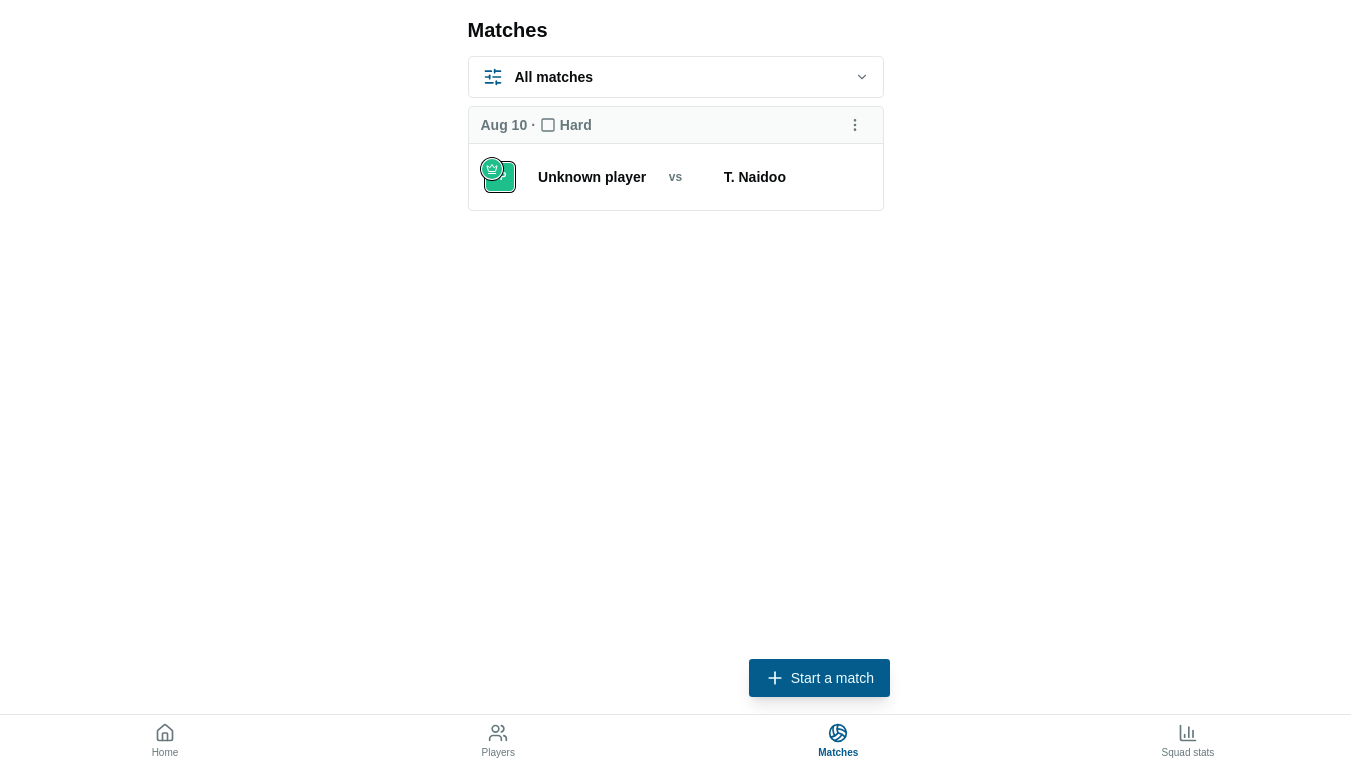
Test: the edit menu item is still offered once the match has a result
Expected: the text "T. Naidoo" is shown, [724,167,786,187]
Click the button named "Actions for the match".
click(854, 125)  # box [838,109,870,141]
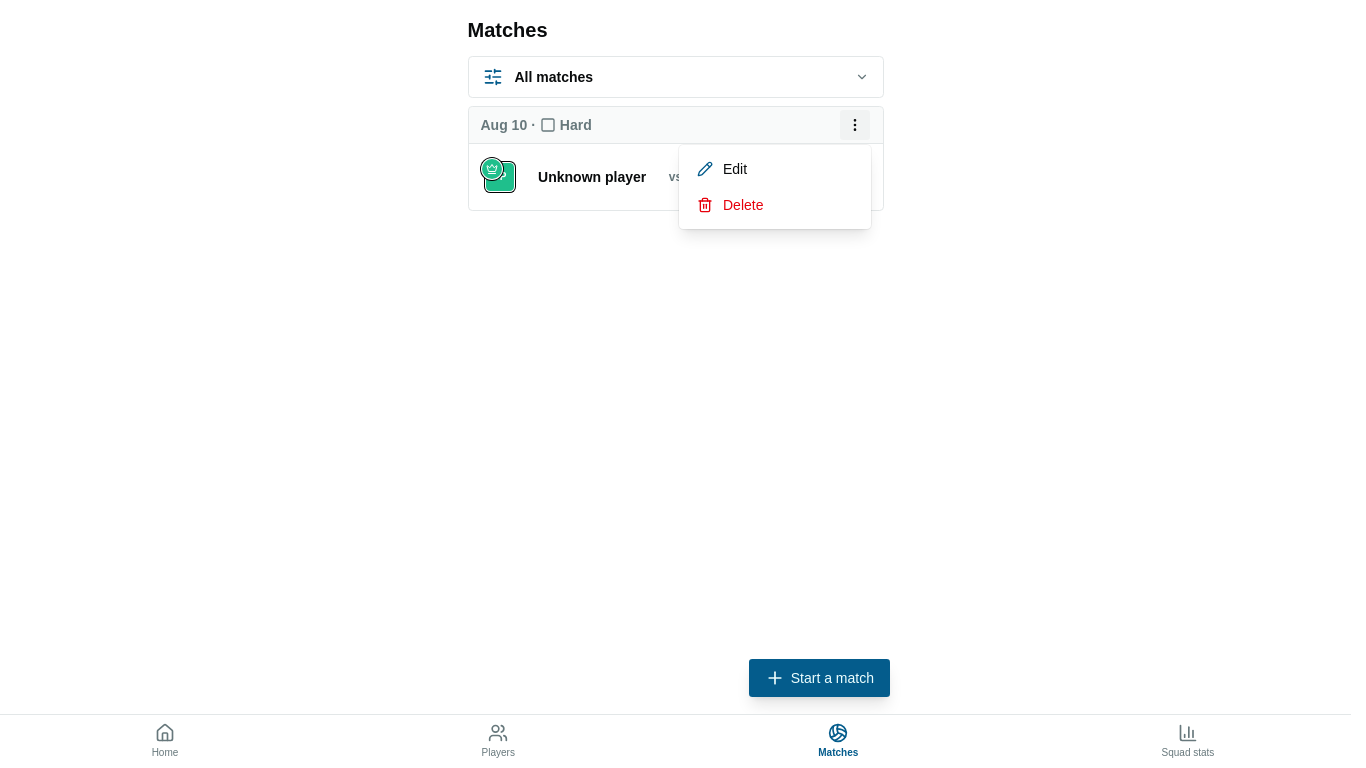
Result: the menu item "Edit" is shown at [697,161,747,177]
